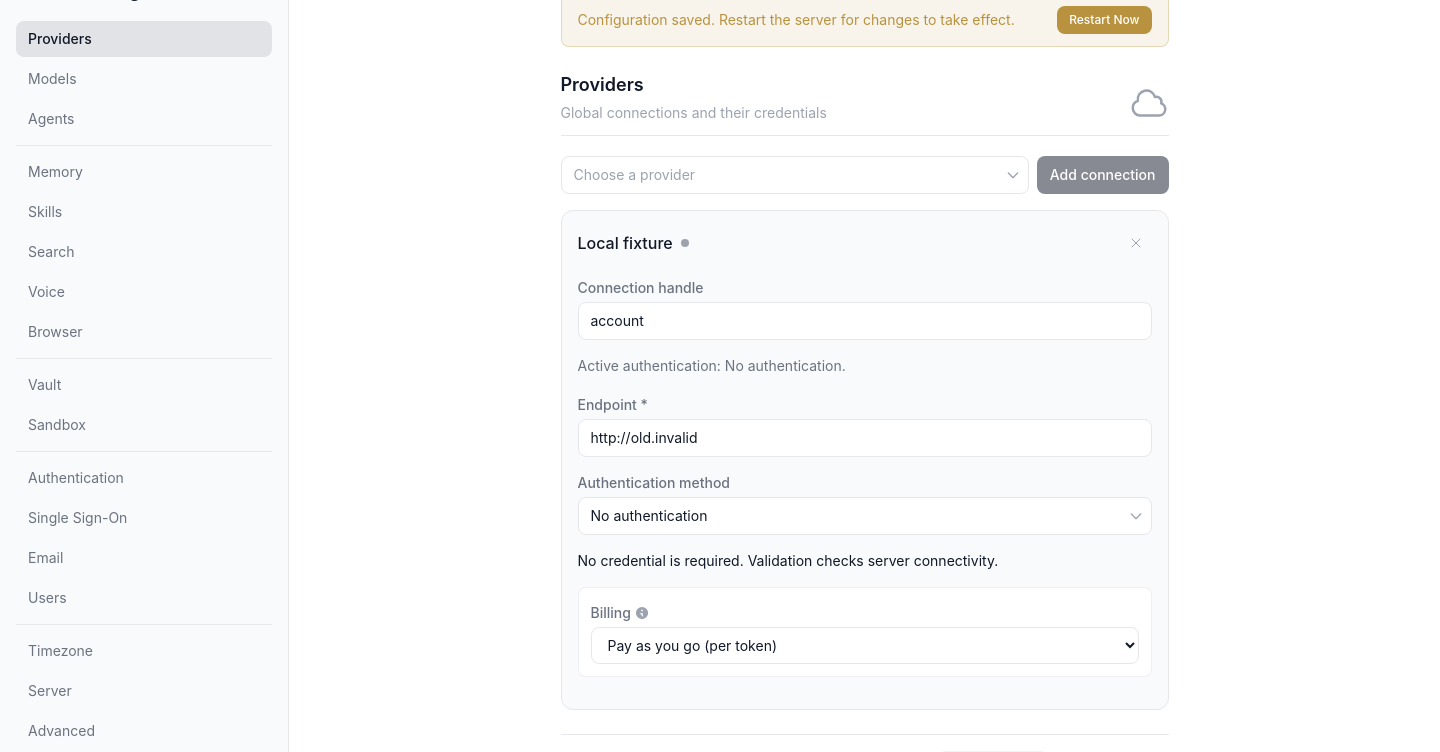
Test case: uses the loaded revision, preserves the edit after a stale save, and retains restart state
Expected: the text "Configuration saved. Restart the server for changes to take effect." is shown, [578,10,1015,30]
Type "http://draft.invalid" into the field labelled "Endpoint *" at (864,438), box [578,419,1152,457]
(page scrolled)
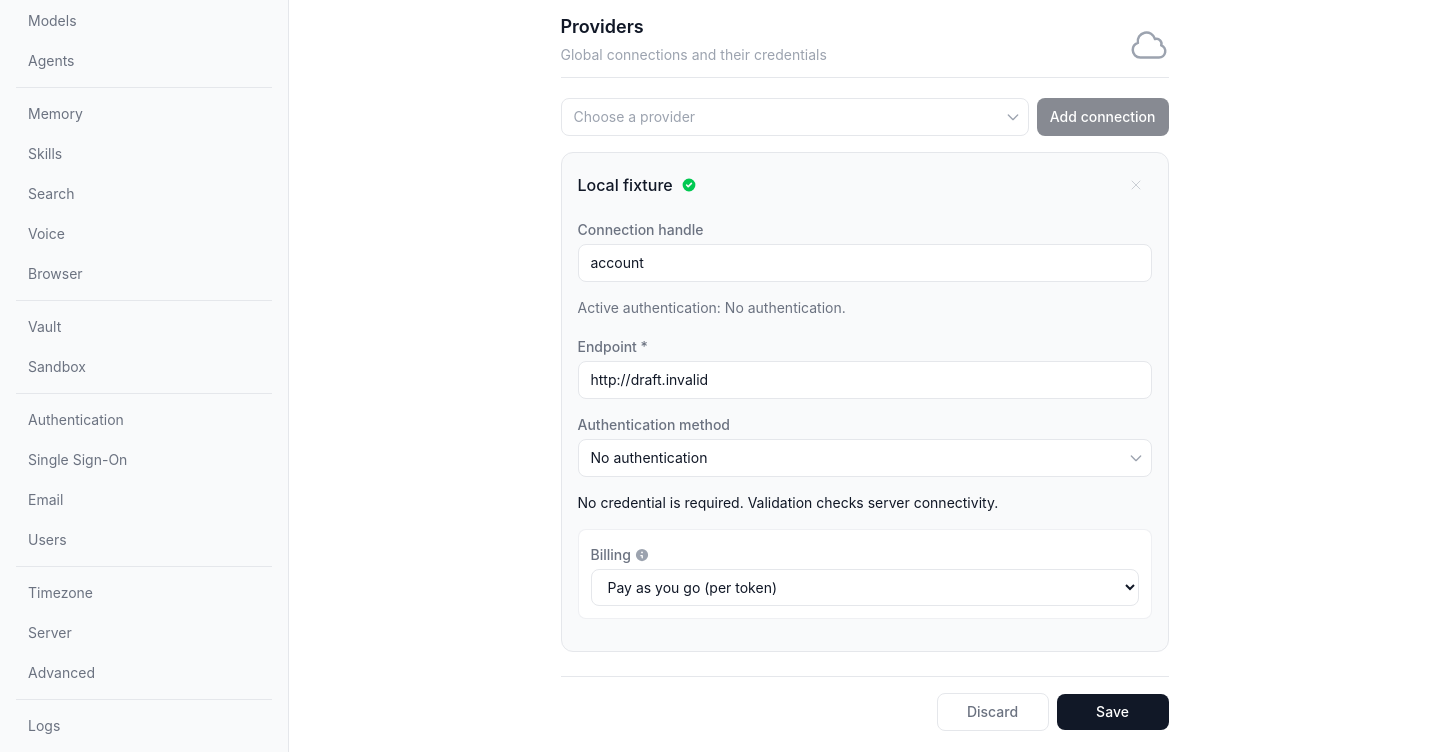
Result: the picture named "Connection validated" is shown at [681,177,697,193]
Result: the button "Save" is enabled
Click the button "Save" at (1112,712), box [1056,694,1168,730]
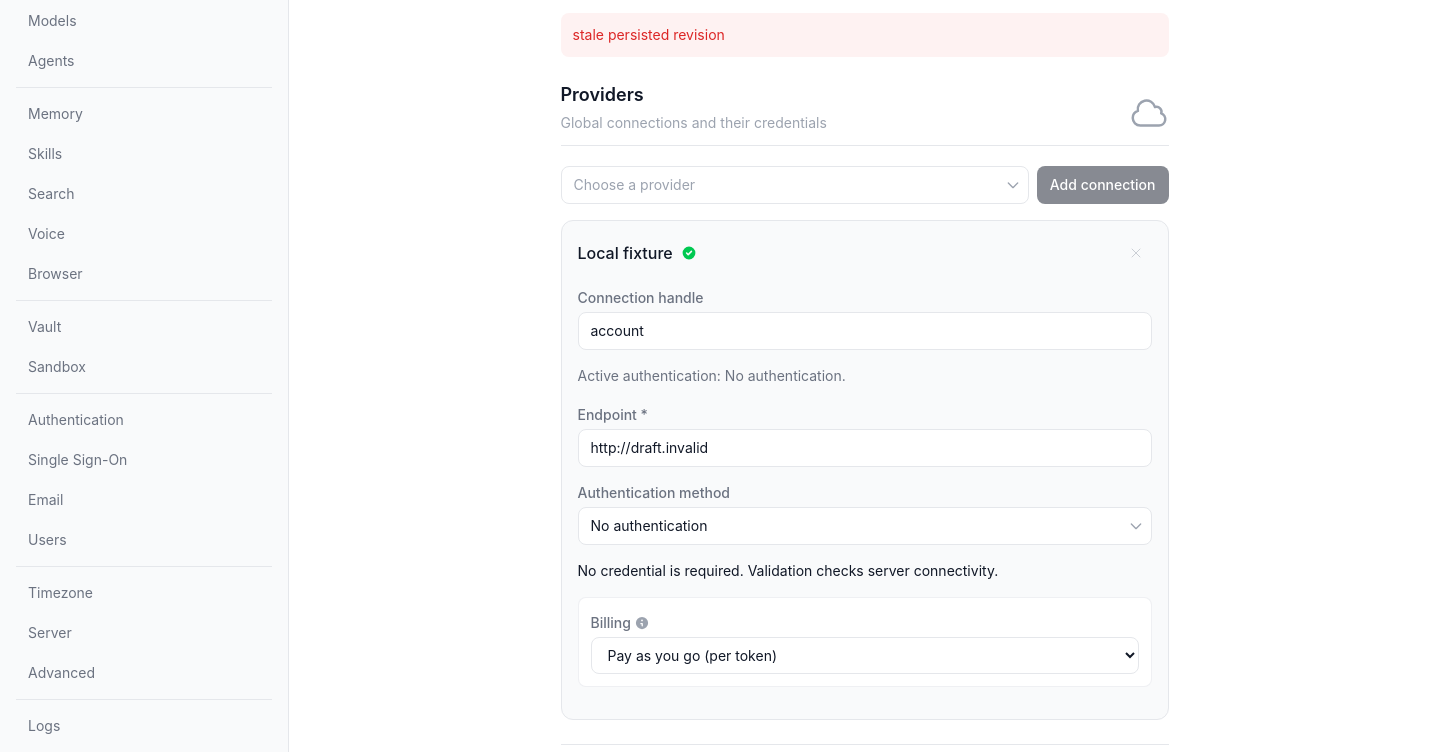
Result: the text "stale persisted revision" is shown at [560,13,1168,57]
